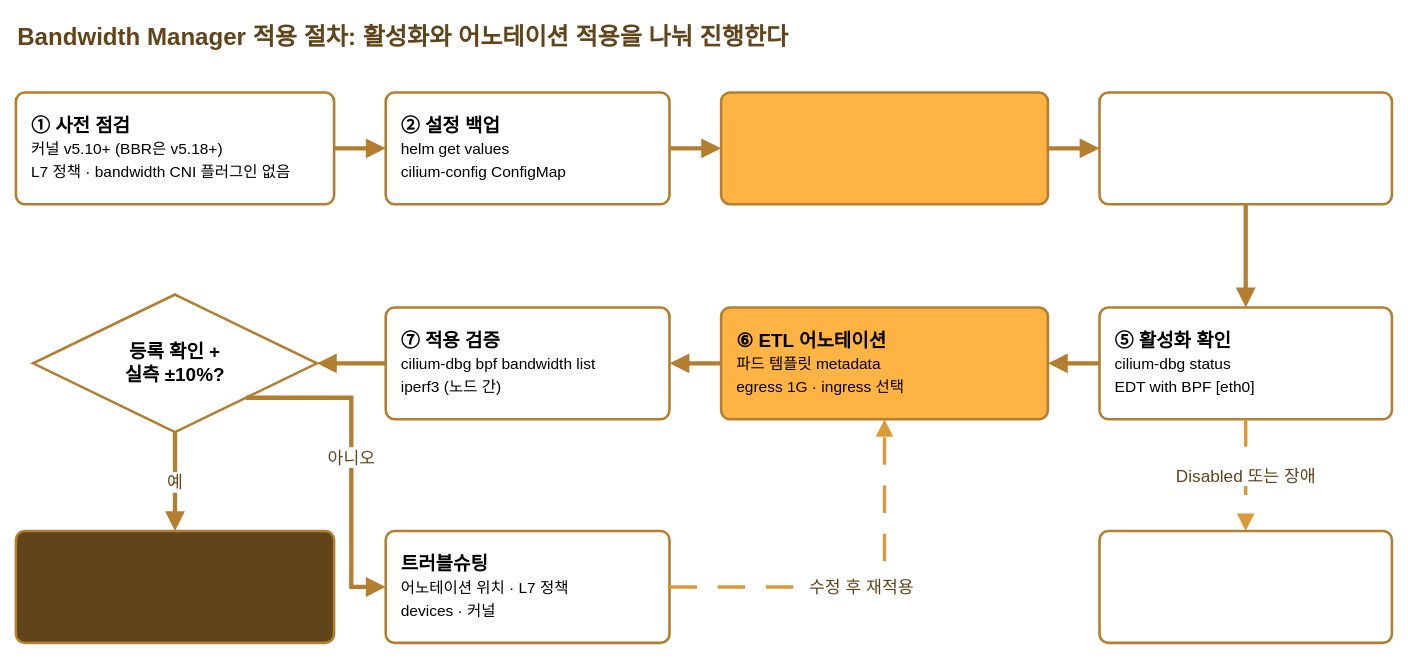
Image size: 1408x659. Some labels were removed from this diagram. The shapes that lost their labels are listed below. From the top down, each one's centre as x and y in pixels, then its label:
At point (884, 148): "③ helm upgrade --version 1.18.4 --reuse-values bandwidthManager.enabled=true".
At point (1245, 148): "④ Agent 재시작 rollout restart ds/cilium 트래픽 적은 시간".
At point (174, 586): "⑧ 모니터링 · 튜닝 NIC 포화 · 드롭 · 재전송 Job SLA 2주 관찰".
At point (1245, 586): "롤백 어노테이션 제거 또는 enabled=false + restart".
